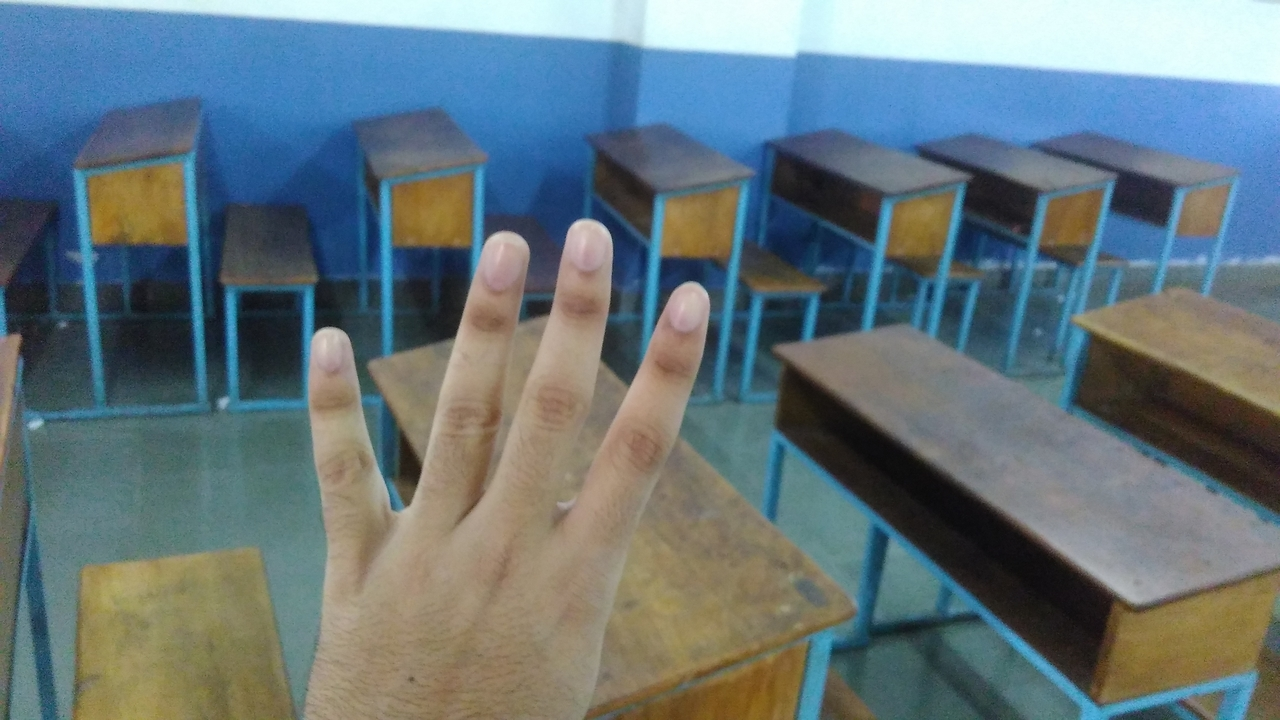fingertip: (648, 276, 716, 350), (548, 210, 616, 280), (466, 222, 538, 288), (294, 322, 362, 386)
